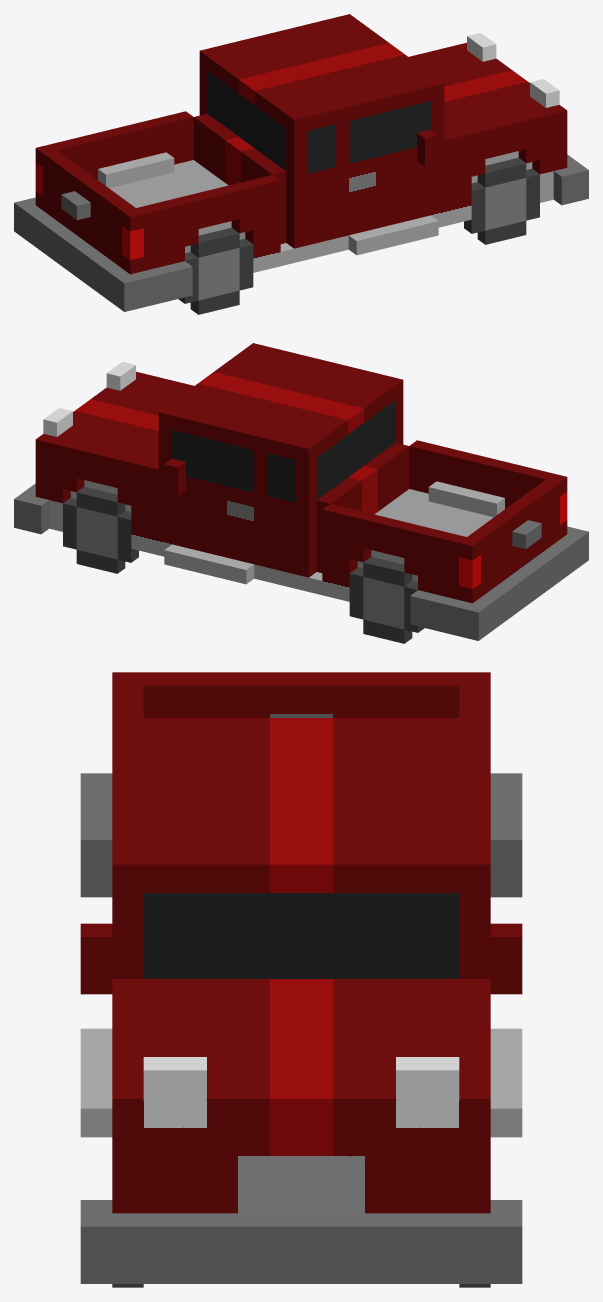
Rendered from veh_truck7.fbx.
The picture shows the model from 3 angles, top to bottom: view 1: azimuth 30°, elevation 25°; view 2: azimuth 150°, elevation 25°; view 3: azimuth 270°, elevation 25°; orthographic projection. The views are drawn at different scales.
Parts seen in each view (by area): view 1: veh_truck7; view 2: veh_truck7; view 3: veh_truck7.
Part boxes in pixels (x1,y1,x2,y2): veh_truck7: [14, 14, 588, 314]; veh_truck7: [14, 343, 588, 643]; veh_truck7: [80, 672, 522, 1287].
Size of the model in its own units: 3.4 by 1.4 by 1.2.
1 material, 1 textured.
